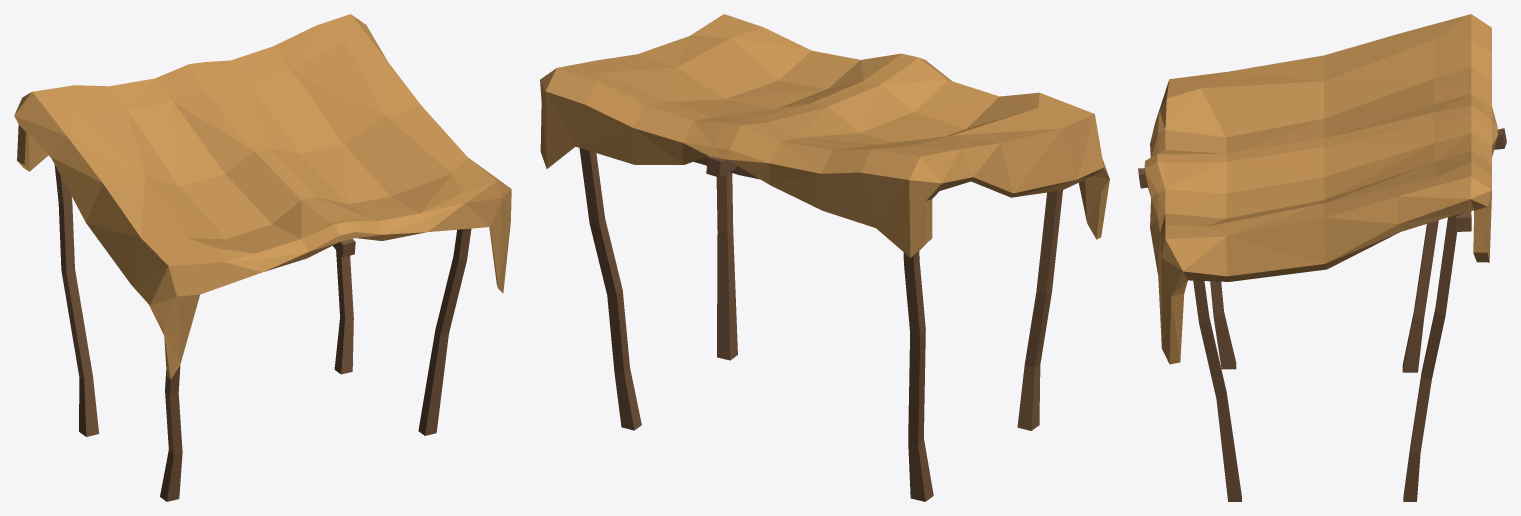
The model's file is stall_cover_a.glb.
3 views of the same model, side by side, from view 1: azimuth 30°, elevation 25°; view 2: azimuth 150°, elevation 25°; view 3: azimuth 270°, elevation 25° (orthographic). The views are drawn at different scales.
Parts seen in each view (by area): view 1: SM_Bld_Stall_Cover_01; view 2: SM_Bld_Stall_Cover_01; view 3: SM_Bld_Stall_Cover_01.
Part boxes in pixels (<box>): SM_Bld_Stall_Cover_01: <box>14,14,511,501</box>; SM_Bld_Stall_Cover_01: <box>540,14,1109,501</box>; SM_Bld_Stall_Cover_01: <box>1138,14,1506,501</box>.
Bounding box in the file's own units: 354 × 305 × 299.
Materials: 1 (1 with a texture image).
